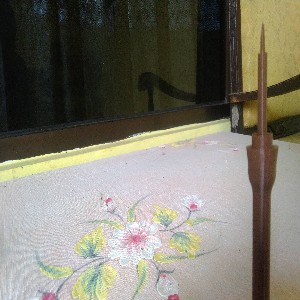solder: (246, 21, 279, 300)
